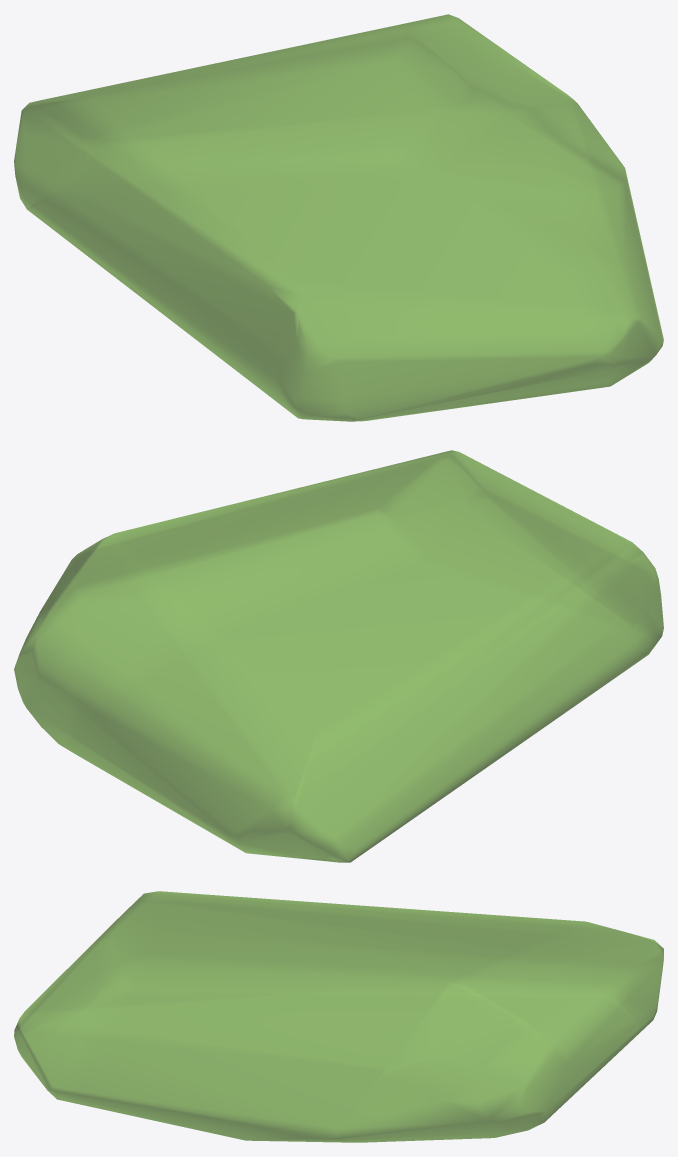
Rendered from rock_pile_02_Unity_colliders.fbx.
The picture shows the model from 3 angles, top to bottom: view 1: azimuth 30°, elevation 25°; view 2: azimuth 150°, elevation 25°; view 3: azimuth 270°, elevation 25°; orthographic projection. The views are drawn at different scales.
Visible parts, largest first — view 1: rock_pile_02_collider_01; view 2: rock_pile_02_collider_01; view 3: rock_pile_02_collider_01.
Boxes of the visible parts, x1,y1,x2,y2 form: rock_pile_02_collider_01: (14,14,663,421); rock_pile_02_collider_01: (14,450,663,862); rock_pile_02_collider_01: (14,891,663,1142).
Bounding box in the file's own units: 63.67 × 23.59 × 92.85.
